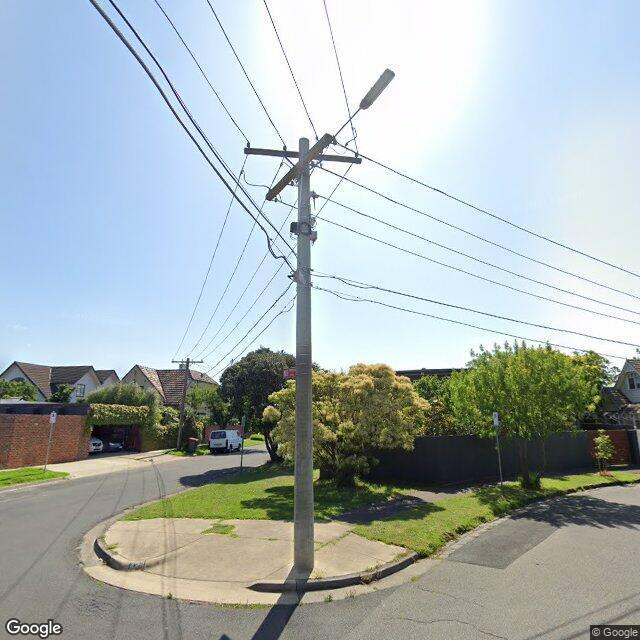concrete-pole: (293, 138, 314, 572)
crossarm: (264, 134, 338, 202), (242, 141, 362, 164), (171, 359, 204, 364)
streetlight: (334, 68, 396, 138)
timber-pole: (176, 358, 190, 451)
